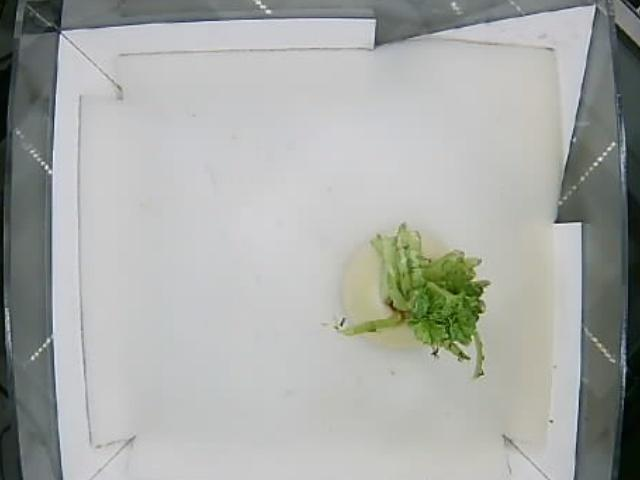Mooli: (336, 220, 489, 357)
